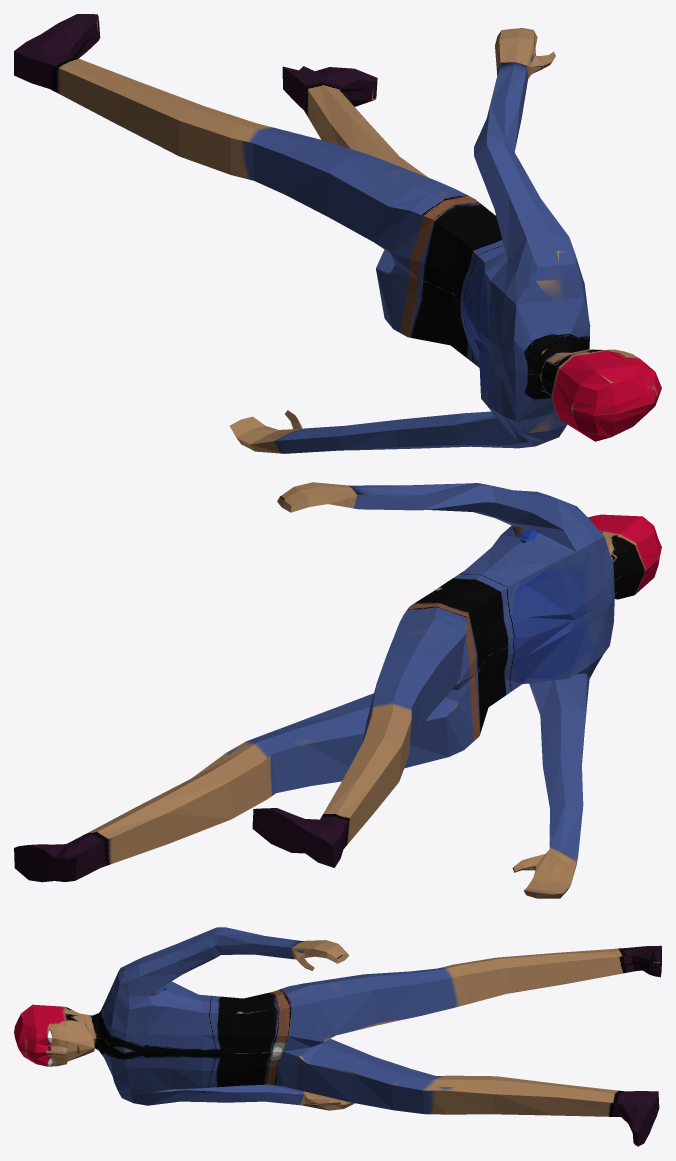
File: mirrorman_000024.obj
3 views of the same model, one above another, from view 1: azimuth 30°, elevation 25°; view 2: azimuth 150°, elevation 25°; view 3: azimuth 270°, elevation 25° (orthographic). The views are drawn at different scales.
Parts seen in each view (by area): view 1: mirrorman_Cube.001_Material.001; view 2: mirrorman_Cube.001_Material.001; view 3: mirrorman_Cube.001_Material.001.
Boxes of the visible parts, x1,y1,x2,y2 form: mirrorman_Cube.001_Material.001: (14, 14, 661, 453); mirrorman_Cube.001_Material.001: (14, 482, 661, 898); mirrorman_Cube.001_Material.001: (14, 927, 661, 1146).
Bounding box in the file's own units: 0.818 × 0.7782 × 1.86.
Materials: 1 (1 with a texture image).
